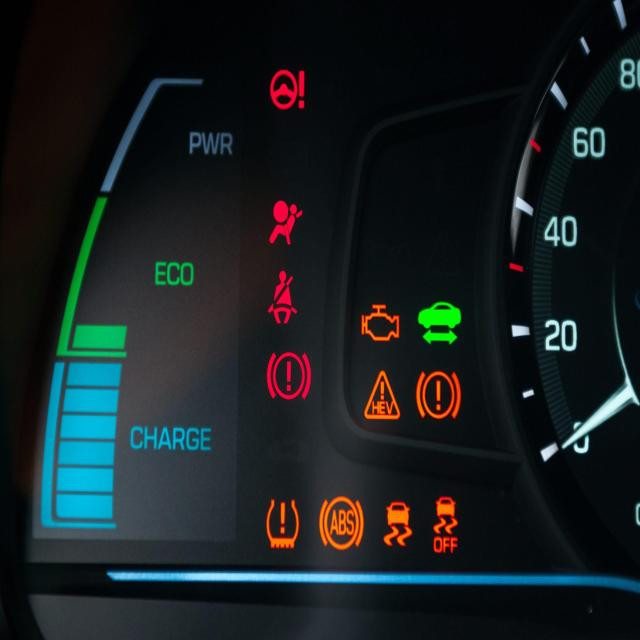kontrolka: (256, 339, 321, 411), (411, 278, 470, 349), (262, 260, 310, 340), (412, 366, 468, 429), (351, 365, 405, 430), (262, 190, 312, 255), (267, 58, 316, 124), (316, 494, 365, 558), (260, 489, 304, 560), (359, 294, 406, 349), (429, 493, 462, 557), (382, 494, 414, 551), (307, 328, 310, 340), (468, 351, 471, 353)
